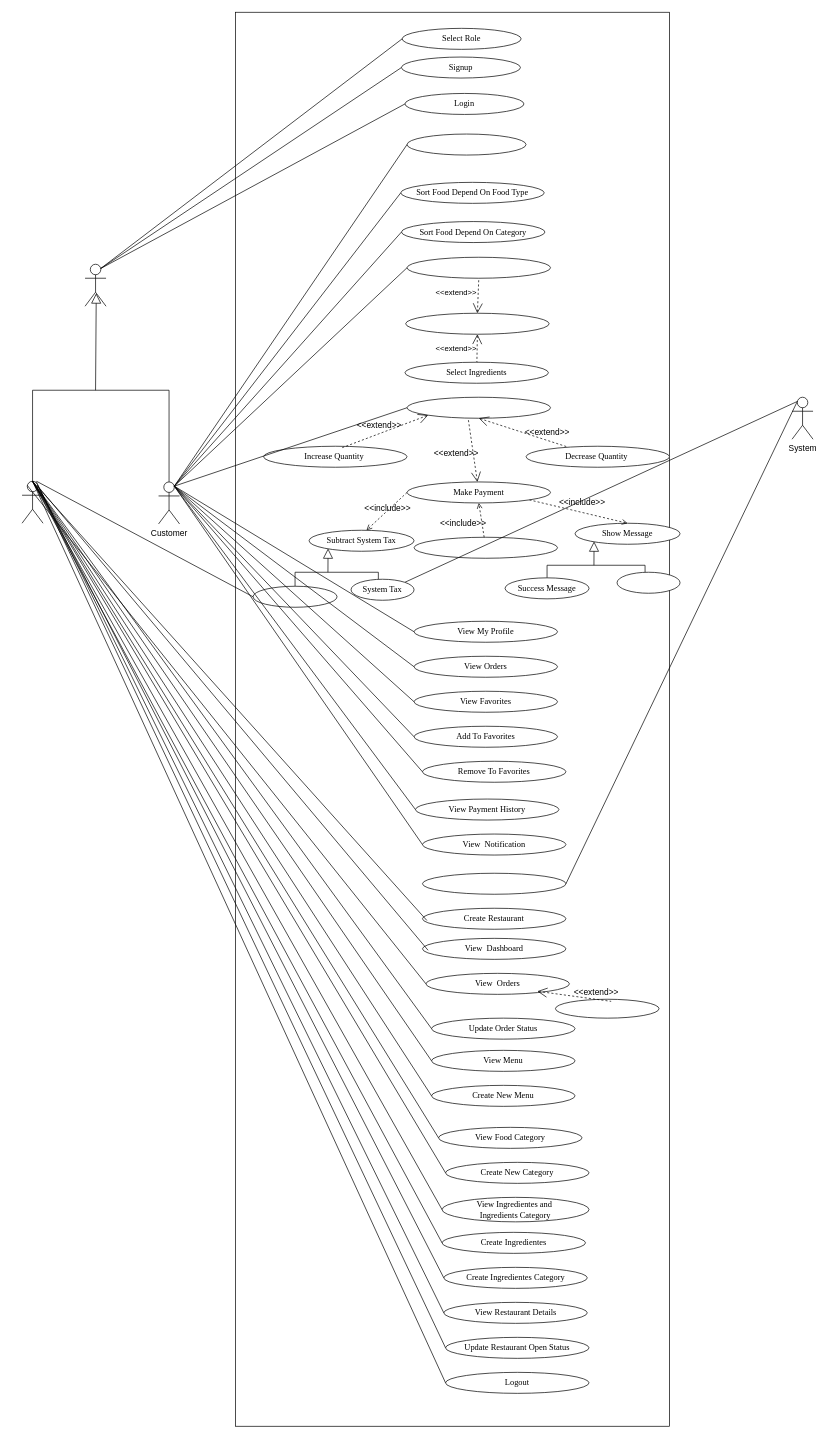
This 829x1439 diagram has some shape labels left out. The shapes that lost their labels are listed below. From the top down, each one's box as (x1, y1, x2, y2) in pixels, then its label:
(406, 133, 526, 155): View Restaurant
(84, 264, 106, 306): User
(406, 257, 551, 278): View Food Details
(405, 313, 549, 334): Add To Cart
(406, 397, 551, 418): View Cart
(21, 481, 43, 523): Restaurant Owner
(413, 537, 558, 558): Set Delivery Address
(252, 586, 337, 607): Remaining Money
(616, 572, 680, 593): Failure Message
(422, 873, 566, 894): Sent Offers
(555, 999, 659, 1018): Filer Orders
